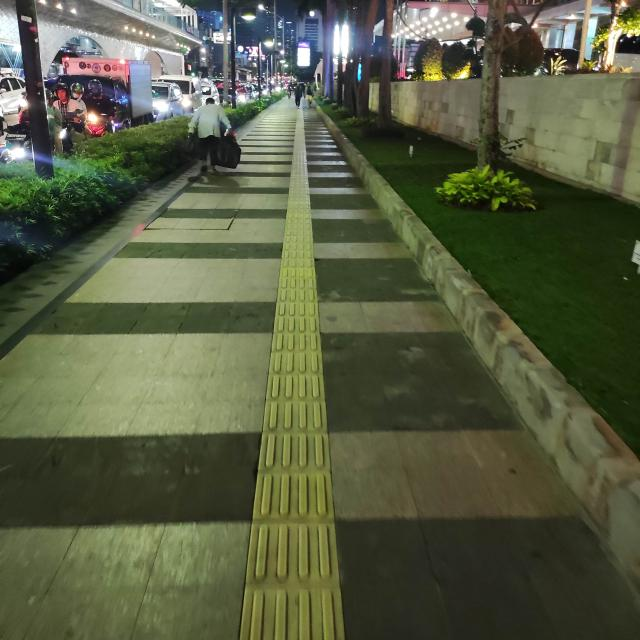lurus: (258, 129, 330, 640)
